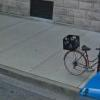Bicycle: (57, 28, 96, 83)
